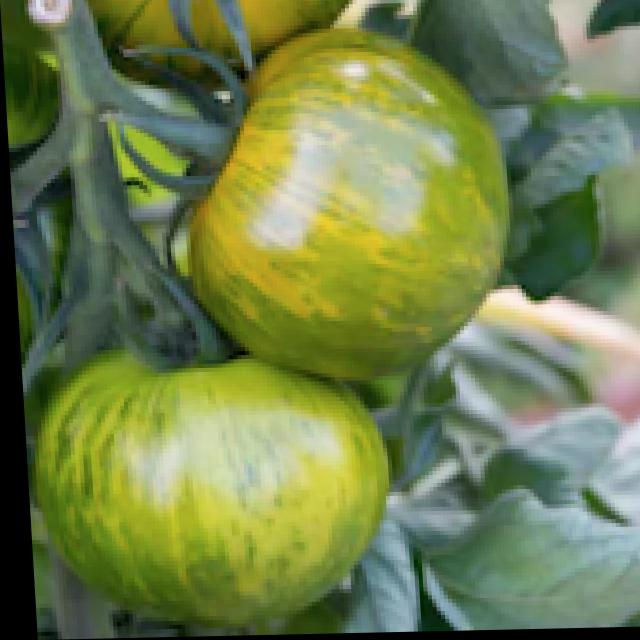yesil: (8, 10, 574, 620)
